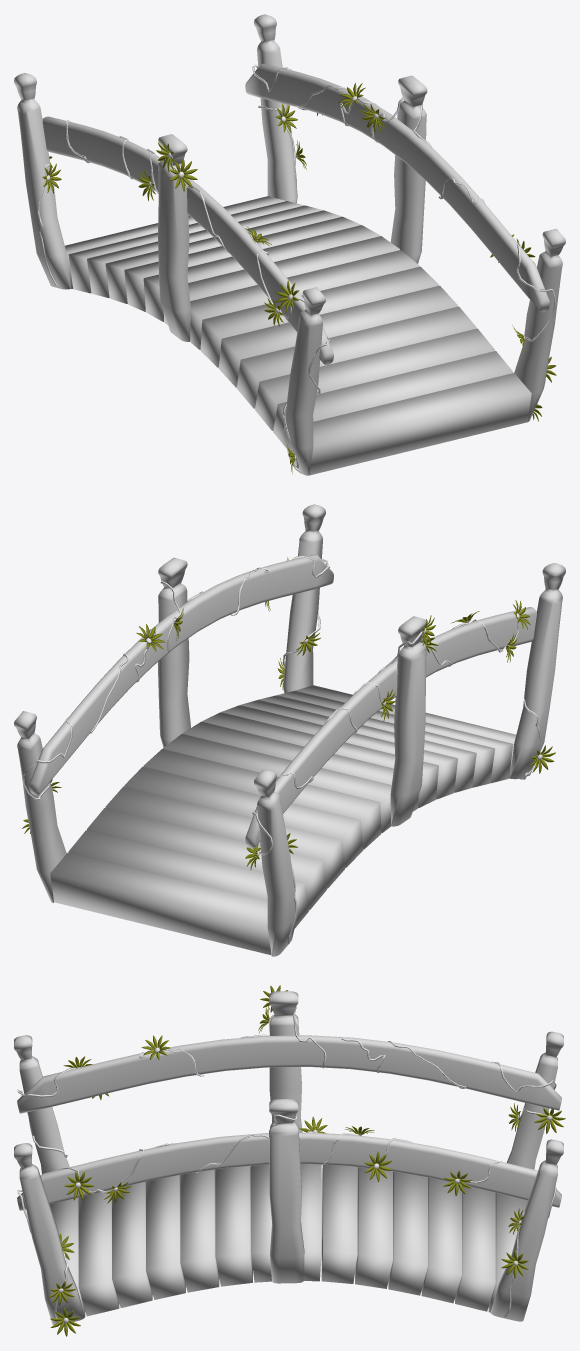
File: Bridge.fbx
3 views of the same model, one above another, from view 1: azimuth 30°, elevation 25°; view 2: azimuth 150°, elevation 25°; view 3: azimuth 270°, elevation 25° (orthographic). The views are drawn at different scales.
Parts seen in each view (by area): view 1: Bridge, Support, Handrail, Flowers; view 2: Bridge, Support, Handrail, Flowers; view 3: Bridge, Handrail, Support, Flowers.
Part boxes in pixels (x1,y1,x2,y2): Bridge: [65, 196, 531, 475]; Support: [14, 14, 565, 475]; Handrail: [42, 63, 550, 364]; Flowers: [37, 64, 556, 473]; Bridge: [50, 685, 516, 955]; Support: [14, 504, 565, 956]; Handrail: [29, 554, 536, 847]; Flowers: [22, 555, 555, 944]; Bridge: [50, 1164, 527, 1316]; Handrail: [17, 1035, 561, 1210]; Support: [14, 991, 563, 1324]; Flowers: [17, 985, 565, 1336].
Size of the model in its own units: 250 by 226 by 476.
